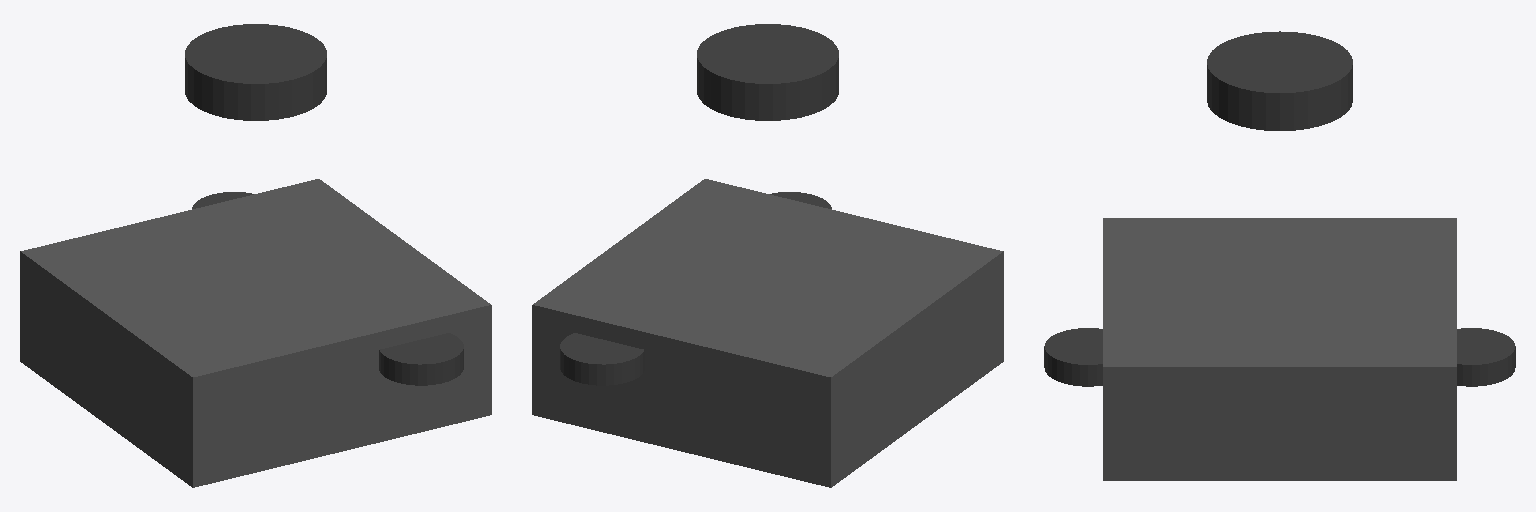
URDF robot description (turtlebot3_waffle):
<?xml version="1.0" ?>
<robot name="turtlebot3_waffle" xmlns:xacro="http://ros.org/wiki/xacro">
  <!-- <xacro:include filename="$(find turtlebot3_description)/urdf/common_properties.urdf"/>

  <xacro:property name="r200_cam_rgb_px" value="0.005"/>
  <xacro:property name="r200_cam_rgb_py" value="0.018"/>
  <xacro:property name="r200_cam_rgb_pz" value="0.013"/>
  <xacro:property name="r200_cam_depth_offset" value="0.01"/> -->

  <!-- Init colour -->
  <material name="black">
      <color rgba="0.0 0.0 0.0 1.0"/>
  </material>

  <material name="dark">
    <color rgba="0.3 0.3 0.3 1.0"/>
  </material>

  <material name="light_black">
    <color rgba="0.4 0.4 0.4 1.0"/>
  </material>

  <material name="blue">
    <color rgba="0.0 0.0 0.8 1.0"/>
  </material>

  <material name="green">
    <color rgba="0.0 0.8 0.0 1.0"/>
  </material>

  <material name="grey">
    <color rgba="0.5 0.5 0.5 1.0"/>
  </material>

  <material name="orange">
    <color rgba="1.0 0.4235 0.0392 1.0"/>
  </material>

  <material name="brown">
    <color rgba="0.8706 0.8118 0.7647 1.0"/>
  </material>

  <material name="red">
    <color rgba="0.8 0.0 0.0 1.0"/>
  </material>

  <material name="white">
    <color rgba="1.0 1.0 1.0 1.0"/>
  </material>

  <link name="base_footprint"/>

  <joint name="base_joint" type="fixed">
    <parent link="base_footprint"/>
    <child link="base_link" />
    <origin xyz="0 0 0.010" rpy="0 0 0"/>
  </joint>

  <link name="base_link">
    <visual>
      <origin xyz="-0.064 0 0.0" rpy="0 0 0"/>
       <geometry>
        <box size="0.266 0.266 0.094"/>
      </geometry>
      <material name="light_black"/>
    </visual>

    <collision>
      <origin xyz="-0.064 0 0.047" rpy="0 0 0"/>
      <geometry>
        <box size="0.266 0.266 0.094"/>
      </geometry>
    </collision>

    <inertial>
      <origin xyz="0 0 0" rpy="0 0 0"/>
      <mass value="1.3729096e+00"/>
      <inertia ixx="8.7002718e-03" ixy="-4.7576583e-05" ixz="1.1160499e-04"
               iyy="8.6195418e-03" iyz="-3.5422299e-06"
               izz="1.4612727e-02" />
    </inertial>
  </link>

  <joint name="wheel_left_joint" type="continuous">
    <parent link="base_link"/>
    <child link="wheel_left_link"/>
    <origin xyz="0.0 0.144 0.023" rpy="-1.57 0 0"/>
    <axis xyz="0 0 1"/>
  </joint>

  <link name="wheel_left_link">
    <visual>
      <origin xyz="0 0 0" rpy="1.57 0 0"/>
      <geometry>
        <cylinder length="0.018" radius="0.033"/>
      </geometry>
      <material name="dark"/>
    </visual>

    <collision>
      <origin xyz="0 0 0" rpy="0 0 0"/>
      <geometry>
        <cylinder length="0.018" radius="0.033"/>
      </geometry>
    </collision>

    <inertial>
      <origin xyz="0 0 0" />
      <mass value="2.8498940e-02" />
      <inertia ixx="1.1175580e-05" ixy="-4.2369783e-11" ixz="-5.9381719e-09"
               iyy="1.1192413e-05" iyz="-1.4400107e-11"
               izz="2.0712558e-05" />
      </inertial>
  </link>

  <joint name="wheel_right_joint" type="continuous">
    <parent link="base_link"/>
    <child link="wheel_right_link"/>
    <origin xyz="0.0 -0.144 0.023" rpy="-1.57 0 0"/>
    <axis xyz="0 0 1"/>
  </joint>

  <link name="wheel_right_link">
    <visual>
      <origin xyz="0 0 0" rpy="1.57 0 0"/>
       <geometry>
        <cylinder length="0.018" radius="0.033"/>
      </geometry>
      <material name="dark"/>
    </visual>

    <collision>
      <origin xyz="0 0 0" rpy="0 0 0"/>
      <geometry>
        <cylinder length="0.018" radius="0.033"/>
      </geometry>
    </collision>

    <inertial>
      <origin xyz="0 0 0" />
      <mass value="2.8498940e-02" />
      <inertia ixx="1.1175580e-05" ixy="-4.2369783e-11" ixz="-5.9381719e-09"
               iyy="1.1192413e-05" iyz="-1.4400107e-11"
               izz="2.0712558e-05" />
      </inertial>
  </link>

 <joint name="scan_joint" type="fixed">
    <parent link="base_link"/>
    <child link="base_scan"/>
    <origin xyz="-0.064 0 0.222" rpy="0 0 0"/>
  </joint>
  <link name="base_scan">
    <visual>
      <origin xyz="0 0 0" rpy="0 0 0"/>
       <geometry>
        <cylinder length="0.0315" radius="0.055"/>
      </geometry>
      <material name="dark"/>
    </visual>

    <collision>
      <origin xyz="0.015 0 -0.0065" rpy="0 0 0"/>
      <geometry>
        <cylinder length="0.0315" radius="0.055"/>
      </geometry>
    </collision>

    <inertial>
      <mass value="0.114" />
      <origin xyz="0 0 0" />
      <inertia ixx="0.001" ixy="0.0" ixz="0.0"
               iyy="0.001" iyz="0.0"
               izz="0.001" />
    </inertial>
  </link>

 

</robot>

--- Facts derived from the render (not from the file) ---
The picture shows the robot from 3 angles, left to right: view 1: azimuth 30°, elevation 25°; view 2: azimuth 150°, elevation 25°; view 3: azimuth 270°, elevation 25°; orthographic projection.
Model turtlebot3_waffle with 5 links and 4 joints (2 continuous, 2 fixed), rooted at base_footprint, posed all joints at 0.
Links seen in each view (by area): view 1: base_link, base_scan, wheel_right_link; view 2: base_link, base_scan, wheel_left_link; view 3: base_link, base_scan, wheel_left_link, wheel_right_link.
Link boxes in pixels (box(x1,y1,x2,y2)): base_link: box(20, 179, 491, 487); base_scan: box(185, 24, 326, 120); wheel_right_link: box(379, 333, 463, 385); base_link: box(532, 179, 1003, 487); base_scan: box(697, 24, 838, 120); wheel_left_link: box(560, 333, 644, 385); base_link: box(1103, 218, 1456, 480); base_scan: box(1207, 31, 1352, 130); wheel_left_link: box(1457, 328, 1515, 386); wheel_right_link: box(1044, 328, 1102, 386).
Bounding box of the posed robot: 0.266 × 0.354 × 0.2847 m (x, y, z).
Geometry: primitives only (box / cylinder / sphere), no mesh files.